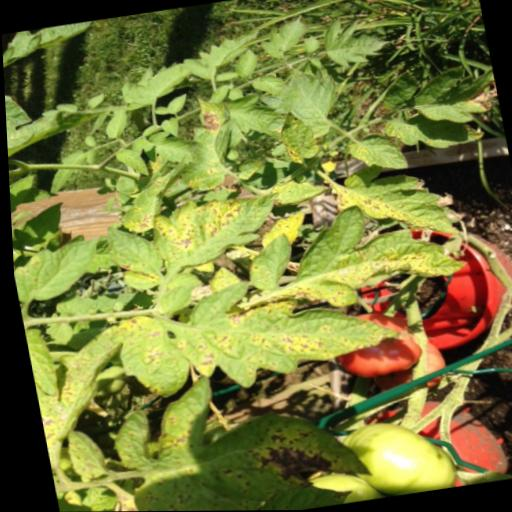Healthy: (177, 27, 266, 82), (317, 10, 397, 70), (121, 61, 194, 107), (254, 14, 313, 61), (138, 126, 195, 169), (42, 147, 90, 192), (246, 72, 289, 99), (230, 46, 261, 78), (99, 107, 130, 139), (160, 93, 189, 115), (159, 116, 181, 139)
Septoria: (102, 252, 407, 407), (98, 353, 371, 512), (267, 190, 470, 314), (24, 329, 131, 461), (324, 153, 460, 252), (143, 185, 283, 271), (164, 92, 242, 194), (106, 156, 198, 233), (403, 62, 501, 131), (10, 234, 107, 303), (377, 99, 486, 157), (273, 62, 347, 142), (100, 219, 166, 292), (237, 232, 296, 293), (341, 128, 408, 176), (272, 108, 322, 166), (57, 424, 107, 481), (21, 324, 58, 398), (266, 173, 331, 207), (374, 69, 423, 110)
